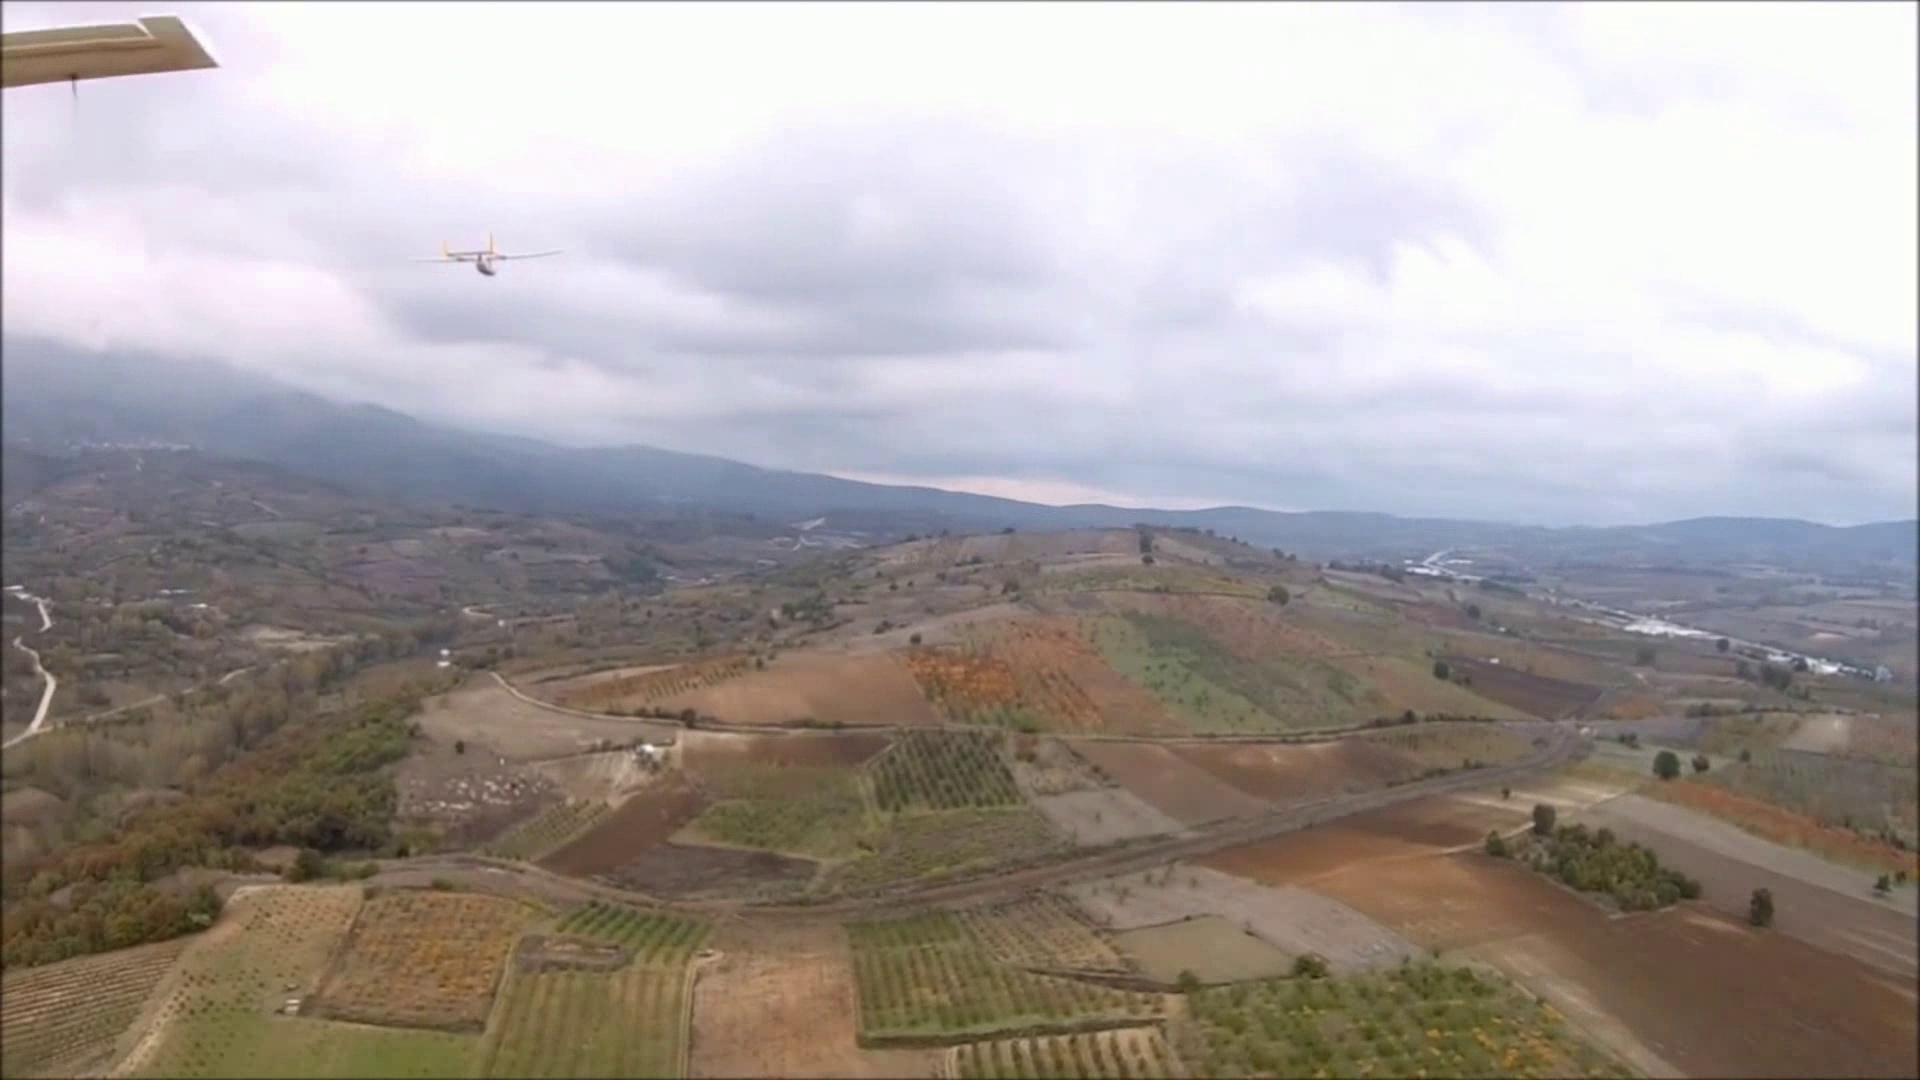airplane: (439, 227, 500, 276)
